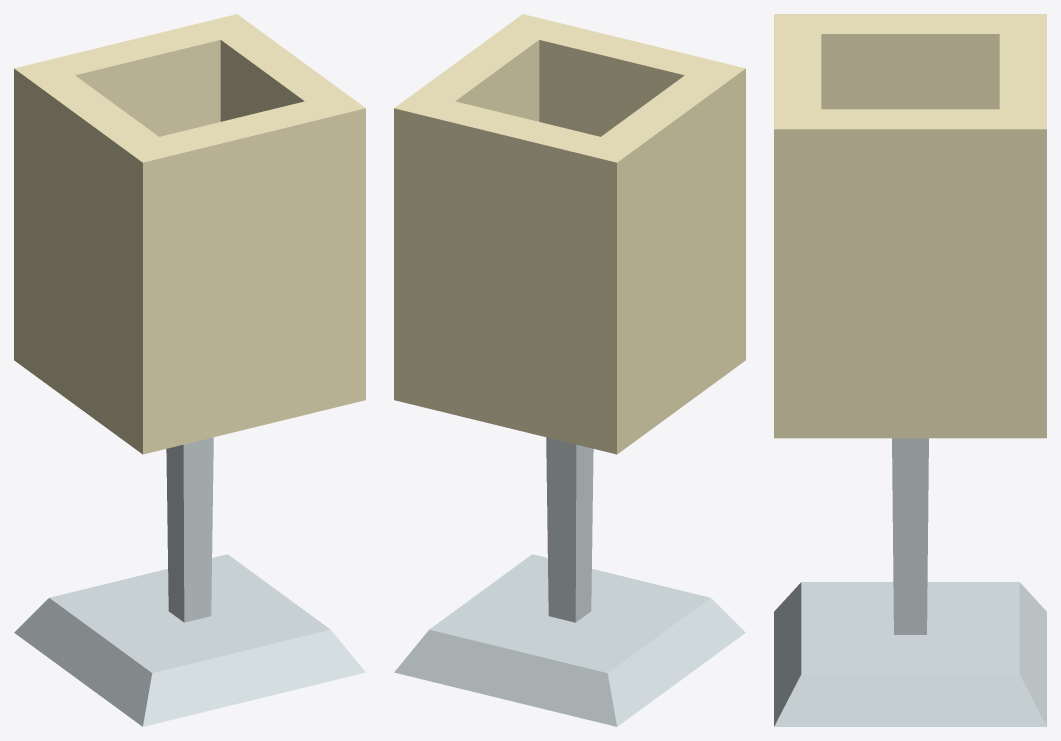
Rendered from lampSquareTable.glb.
3 views of the same model, side by side, from view 1: azimuth 30°, elevation 25°; view 2: azimuth 150°, elevation 25°; view 3: azimuth 270°, elevation 25° (orthographic). The views are drawn at different scales.
Visible parts, largest first — view 1: lampSquareTable(Clone); view 2: lampSquareTable(Clone); view 3: lampSquareTable(Clone).
Part boxes in pixels (x1,y1,x2,y2): lampSquareTable(Clone): (14, 14, 365, 726); lampSquareTable(Clone): (394, 14, 745, 726); lampSquareTable(Clone): (774, 14, 1046, 726).
Bounding box in the file's own units: 0.12 × 0.29 × 0.12.
